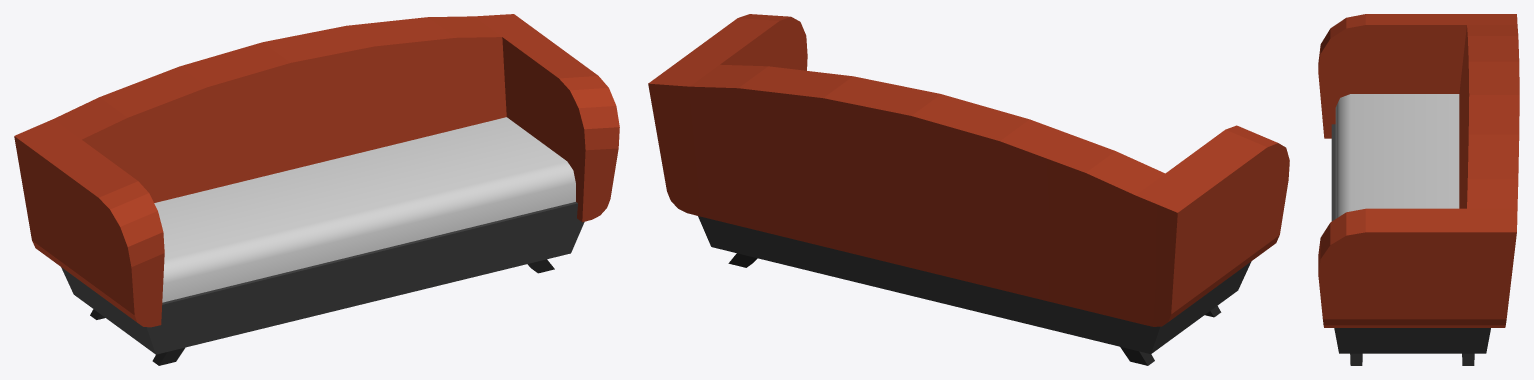
Rendered from sofa_2.glb.
3 renders of one model, left to right at view 1: azimuth 30°, elevation 25°; view 2: azimuth 150°, elevation 25°; view 3: azimuth 270°, elevation 25°, orthographic. The views are drawn at different scales.
Visible parts, largest first — view 1: Sofa_2; view 2: Sofa_2; view 3: Sofa_2.
Part boxes in pixels (box(x1,y1,x2,y2)): Sofa_2: box(14, 14, 619, 365); Sofa_2: box(648, 14, 1289, 365); Sofa_2: box(1318, 14, 1519, 365).
Bounding box in the file's own units: 2.4 × 0.9443 × 0.9339.
Materials: 1 (1 with a texture image).
